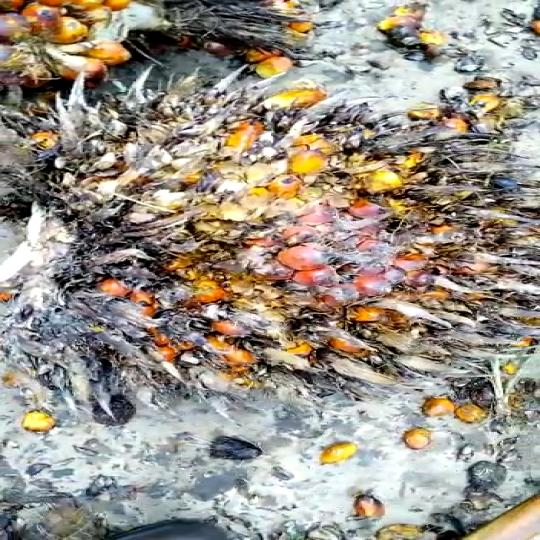terlalu masak: (0, 74, 537, 417)
